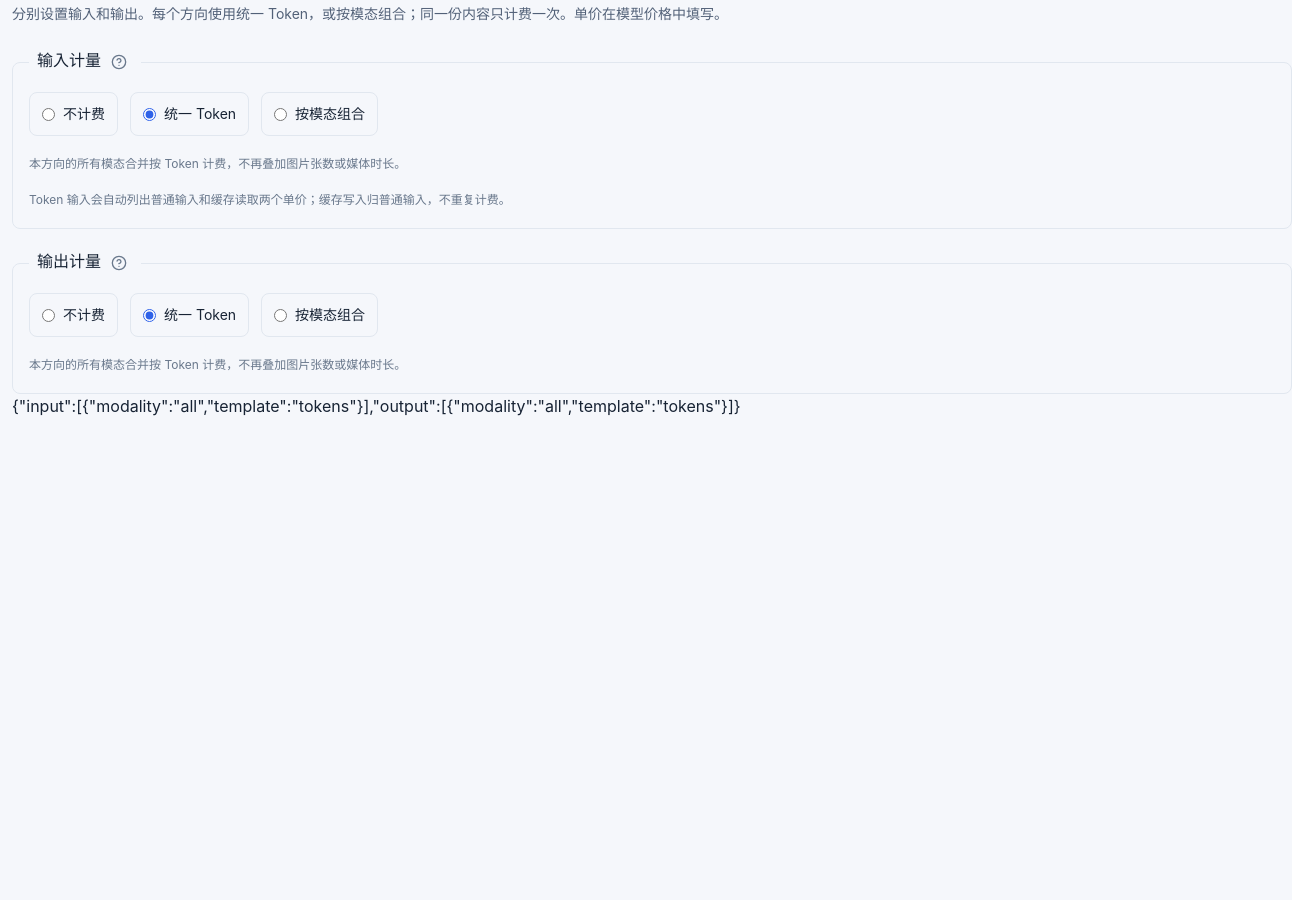
Test: lets operators combine input media without keeping an overlapping aggregate charge
Click the radio button labelled "按模态组合" below "输入计量".
click(281, 114)  # box x1=274 y1=108 x2=287 y2=120
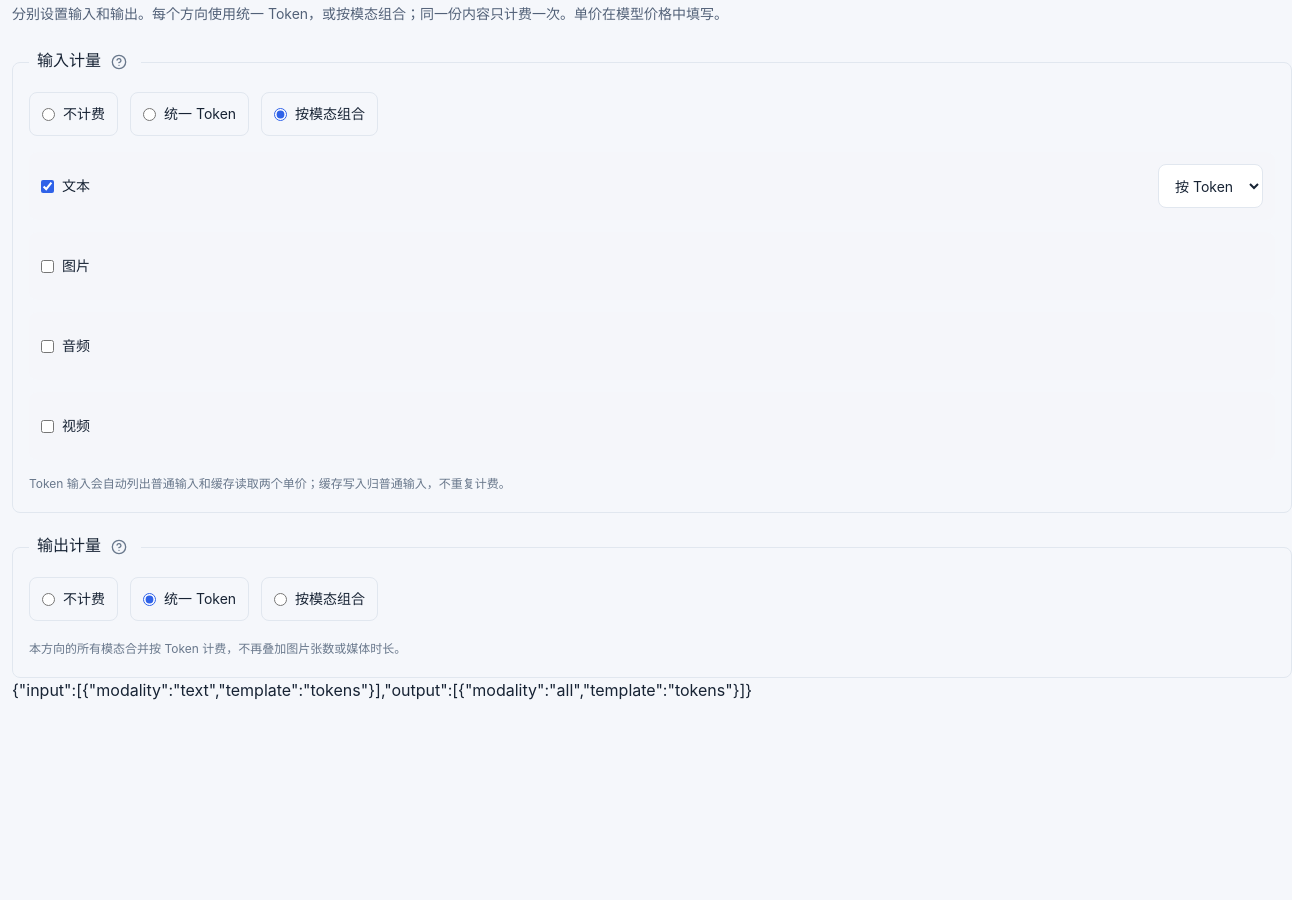
Click the checkbox named "输入计量 · 图片".
click(48, 266)  # box x1=41 y1=260 x2=54 y2=272
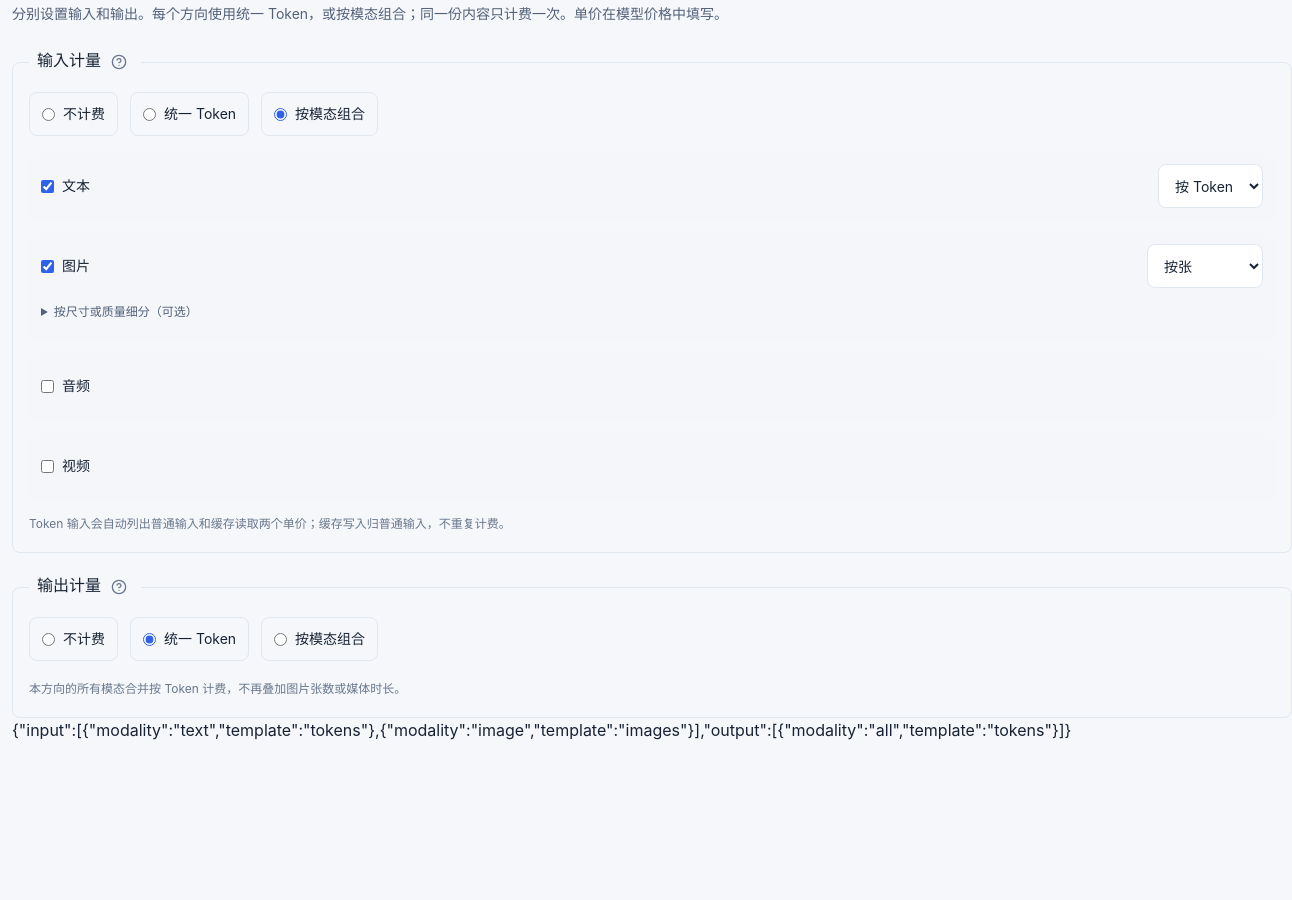
Select "按百万像素" in the dropdown named "输入计量 · 图片 · 计量方式" at (1205, 266), box x1=1147 y1=244 x2=1263 y2=288
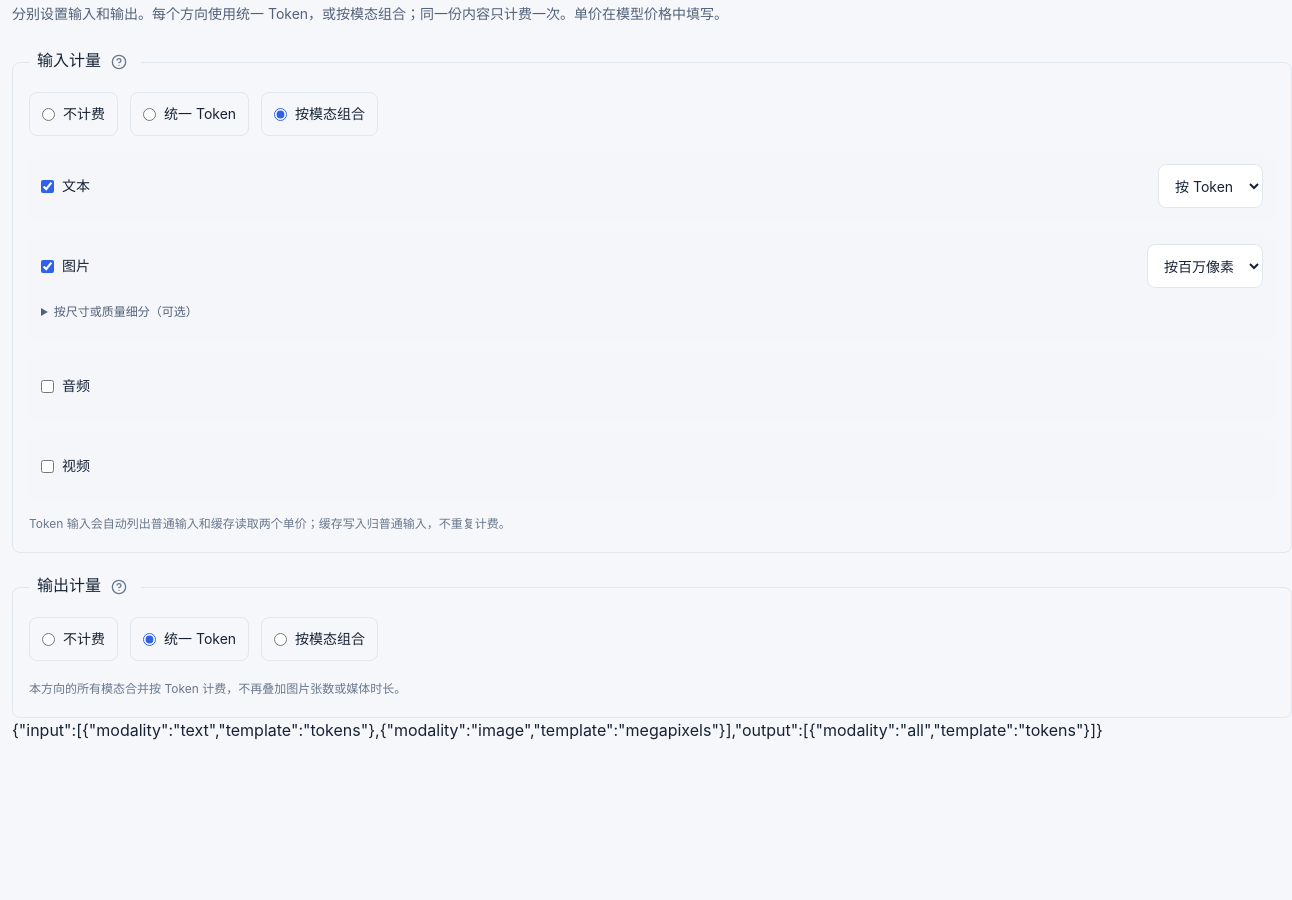
Click the radio button labelled "统一 Token" below "输入计量".
click(150, 114)  # box x1=143 y1=108 x2=156 y2=120
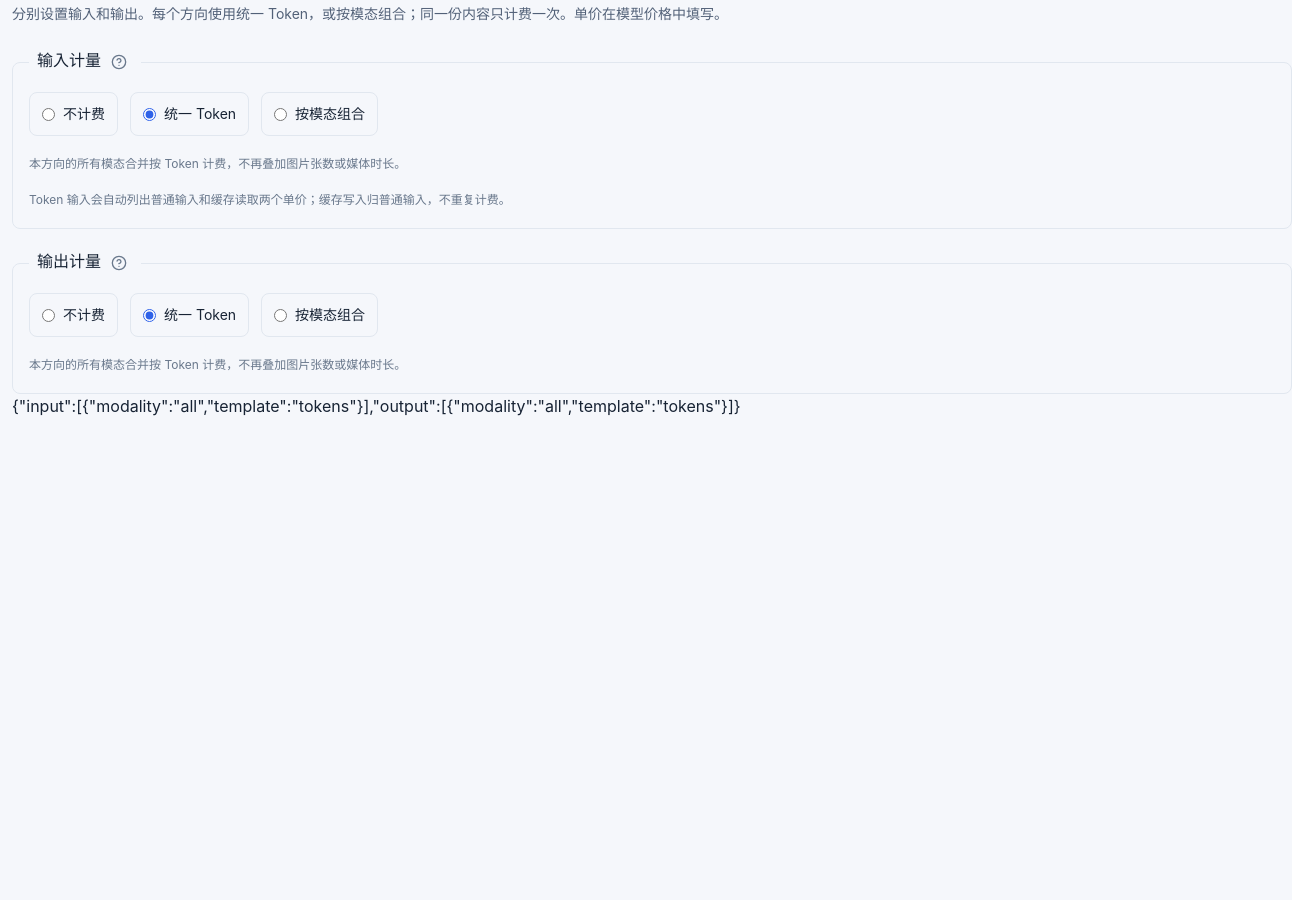
expect the checkbox labelled "输入计量 · 图片" is gone: met
